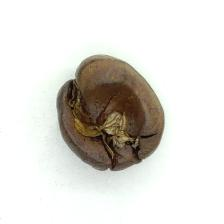NG: (68, 78, 145, 159)
